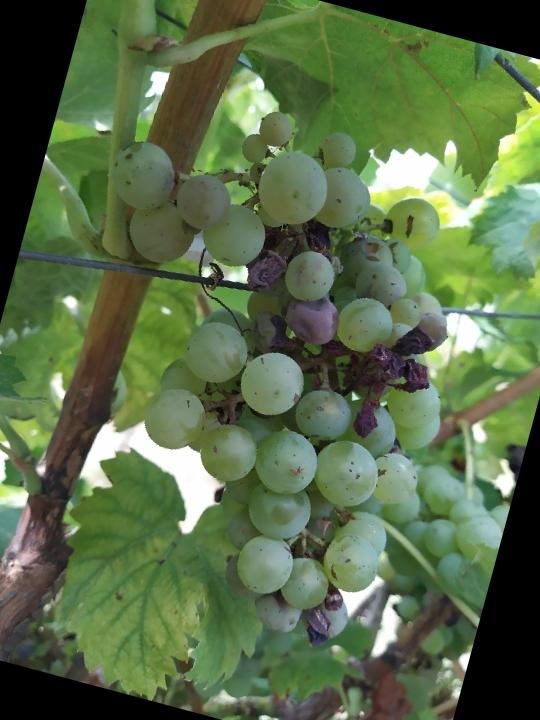grape: (1, 70, 513, 669)
